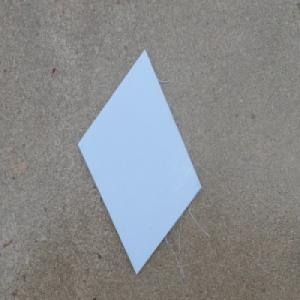PaintChip: (77, 47, 202, 277)
